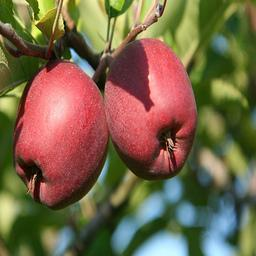apple: (103, 37, 197, 182), (12, 64, 105, 209)
